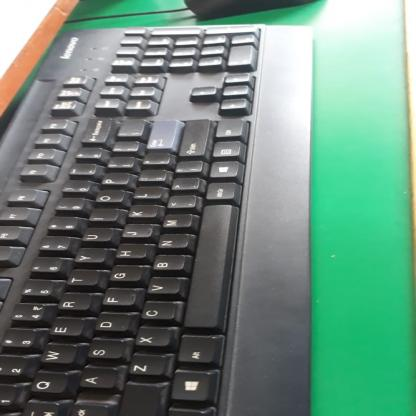mouse: (35, 35, 276, 416)
